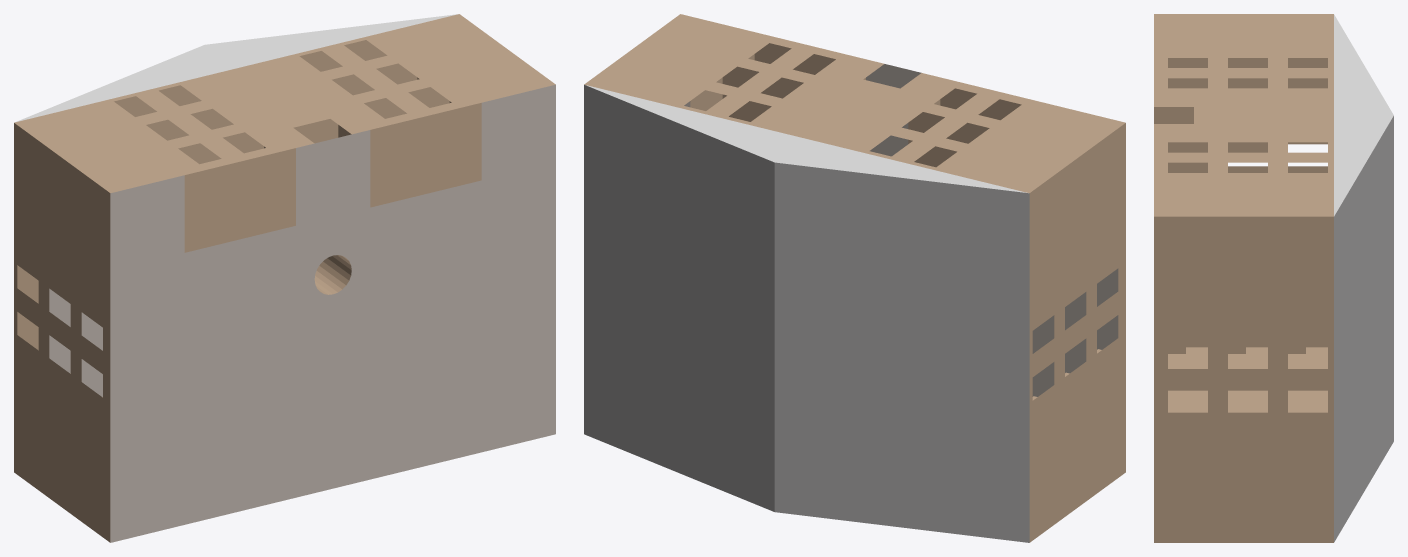
File: PYNC College Dorm-2 1.fbx
The picture shows the model from 3 angles, left to right: view 1: azimuth 30°, elevation 25°; view 2: azimuth 150°, elevation 25°; view 3: azimuth 270°, elevation 25°; orthographic projection. The views are drawn at different scales.
Visible parts, largest first — view 1: imagetostl_mesh2, imagetostl_mesh4, imagetostl_mesh3, imagetostl_mesh7, imagetostl_mesh5, imagetostl_mesh6, imagetostl_mesh8, imagetostl_mesh0, imagetostl_mesh1, imagetostl_mesh179, imagetostl_mesh178, imagetostl_mesh34 (+33 smaller); view 2: imagetostl_mesh180, imagetostl_mesh182, imagetostl_mesh179, imagetostl_mesh112, imagetostl_mesh138, imagetostl_mesh60, imagetostl_mesh34, imagetostl_mesh97, imagetostl_mesh74, imagetostl_mesh124, imagetostl_mesh59, imagetostl_mesh33 (+28 smaller); view 3: imagetostl_mesh182, imagetostl_mesh142, imagetostl_mesh143, imagetostl_mesh20, imagetostl_mesh91, imagetostl_mesh179, imagetostl_mesh19, imagetostl_mesh90, imagetostl_mesh153, imagetostl_mesh35, imagetostl_mesh98, imagetostl_mesh126 (+38 smaller).
Boxes of the visible parts, x1,y1,x2,y2 form: imagetostl_mesh2: [110, 84, 555, 426]; imagetostl_mesh4: [259, 372, 333, 506]; imagetostl_mesh3: [184, 390, 258, 524]; imagetostl_mesh7: [481, 318, 555, 452]; imagetostl_mesh5: [333, 354, 407, 488]; imagetostl_mesh6: [407, 336, 481, 470]; imagetostl_mesh8: [110, 408, 184, 542]; imagetostl_mesh0: [184, 148, 295, 252]; imagetostl_mesh1: [370, 103, 481, 207]; imagetostl_mesh179: [15, 14, 458, 122]; imagetostl_mesh178: [17, 40, 417, 349]; imagetostl_mesh34: [78, 403, 110, 542]; imagetostl_mesh180: [774, 162, 1029, 542]; imagetostl_mesh182: [584, 84, 774, 511]; imagetostl_mesh179: [585, 85, 1028, 193]; imagetostl_mesh112: [1029, 403, 1061, 542]; imagetostl_mesh138: [1029, 170, 1061, 309]; imagetostl_mesh60: [1061, 379, 1093, 518]; imagetostl_mesh34: [1094, 356, 1125, 495]; imagetostl_mesh97: [1061, 146, 1093, 285]; imagetostl_mesh74: [1061, 263, 1093, 402]; imagetostl_mesh124: [1029, 286, 1061, 425]; imagetostl_mesh59: [1094, 123, 1125, 262]; imagetostl_mesh33: [1094, 239, 1125, 378]; imagetostl_mesh182: [1334, 116, 1393, 542]; imagetostl_mesh142: [1274, 216, 1333, 325]; imagetostl_mesh143: [1274, 434, 1333, 542]; imagetostl_mesh20: [1154, 434, 1213, 542]; imagetostl_mesh91: [1214, 434, 1273, 542]; imagetostl_mesh179: [1334, 14, 1393, 216]; imagetostl_mesh19: [1154, 216, 1213, 325]; imagetostl_mesh90: [1214, 216, 1273, 325]; imagetostl_mesh153: [1274, 325, 1333, 434]; imagetostl_mesh35: [1154, 325, 1213, 434]; imagetostl_mesh98: [1214, 325, 1273, 434]; imagetostl_mesh126: [1274, 47, 1333, 98].
Bounding box in the file's own units: 144000 × 108000 × 72000.
